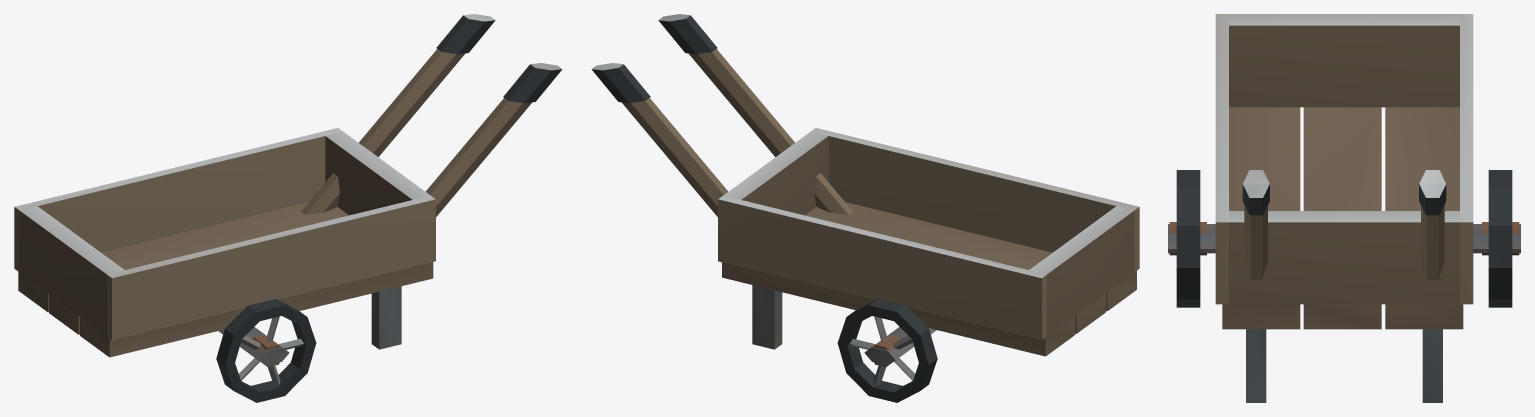
File: handcart.glb
The picture shows the model from 3 angles, left to right: view 1: azimuth 30°, elevation 25°; view 2: azimuth 150°, elevation 25°; view 3: azimuth 270°, elevation 25°; orthographic projection. The views are drawn at different scales.
Visible parts, largest first — view 1: handcart; view 2: handcart; view 3: handcart.
Boxes of the visible parts, x1,y1,x2,y2 form: handcart: [14, 14, 562, 402]; handcart: [591, 14, 1139, 402]; handcart: [1168, 14, 1520, 402].
Size of the model in its own units: 2 by 1 by 1.
